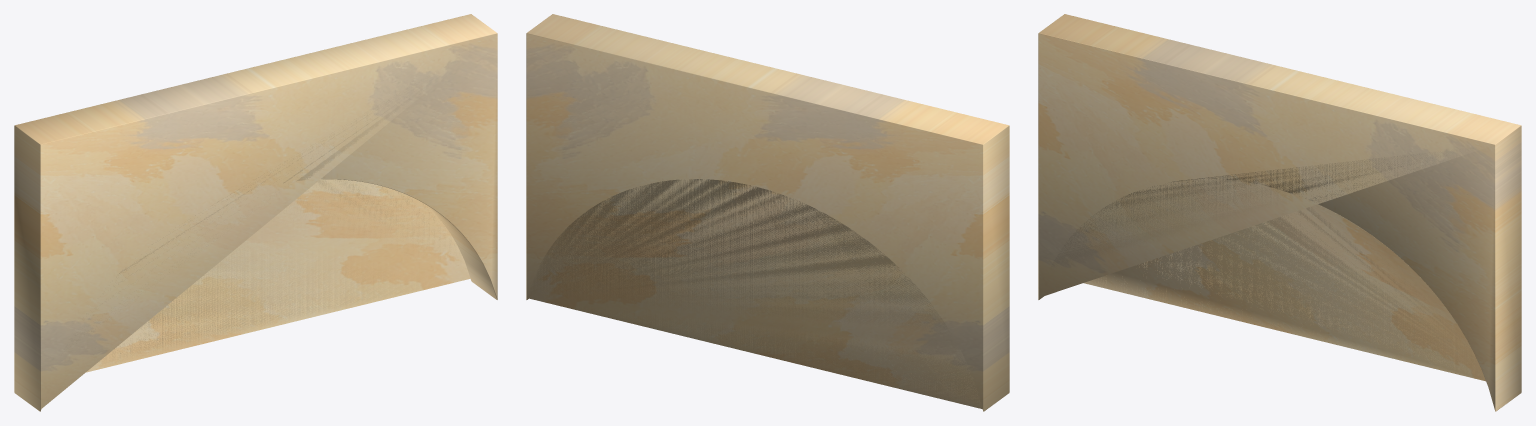
File: CM_R06_EntrancePlaster.fbx
3 renders of one model, left to right at view 1: azimuth 30°, elevation 25°; view 2: azimuth 150°, elevation 25°; view 3: azimuth 330°, elevation 25°, orthographic.
Parts seen in each view (by area): view 1: CM_R06_EntrancePlaster; view 2: CM_R06_EntrancePlaster; view 3: CM_R06_EntrancePlaster.
Boxes of the visible parts, bbox=[...] form: CM_R06_EntrancePlaster: bbox=[14, 14, 497, 411]; CM_R06_EntrancePlaster: bbox=[526, 14, 1009, 411]; CM_R06_EntrancePlaster: bbox=[1038, 14, 1521, 411].
Size of the model in its own units: 2 by 1.12 by 0.2.
